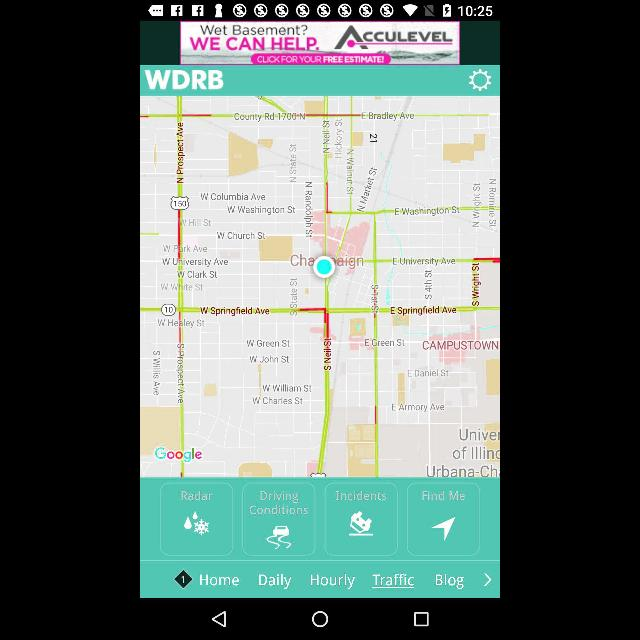icon: (161, 482, 233, 556), (326, 483, 398, 557), (243, 484, 315, 554), (408, 484, 480, 554), (466, 68, 492, 92), (310, 610, 330, 628), (210, 610, 228, 628), (414, 611, 430, 627), (483, 572, 492, 588)
iframe: (180, 22, 460, 64)
image: (143, 70, 224, 90)
map: (141, 96, 499, 478)
panel: (141, 598, 499, 640)
text: (249, 490, 309, 516), (334, 489, 388, 501), (422, 490, 466, 500), (180, 491, 213, 502)
textbutton: (372, 574, 416, 590), (310, 574, 356, 588), (199, 574, 239, 588), (258, 574, 292, 590), (434, 574, 466, 590)
uppertaskbar: (140, 0, 500, 18)
